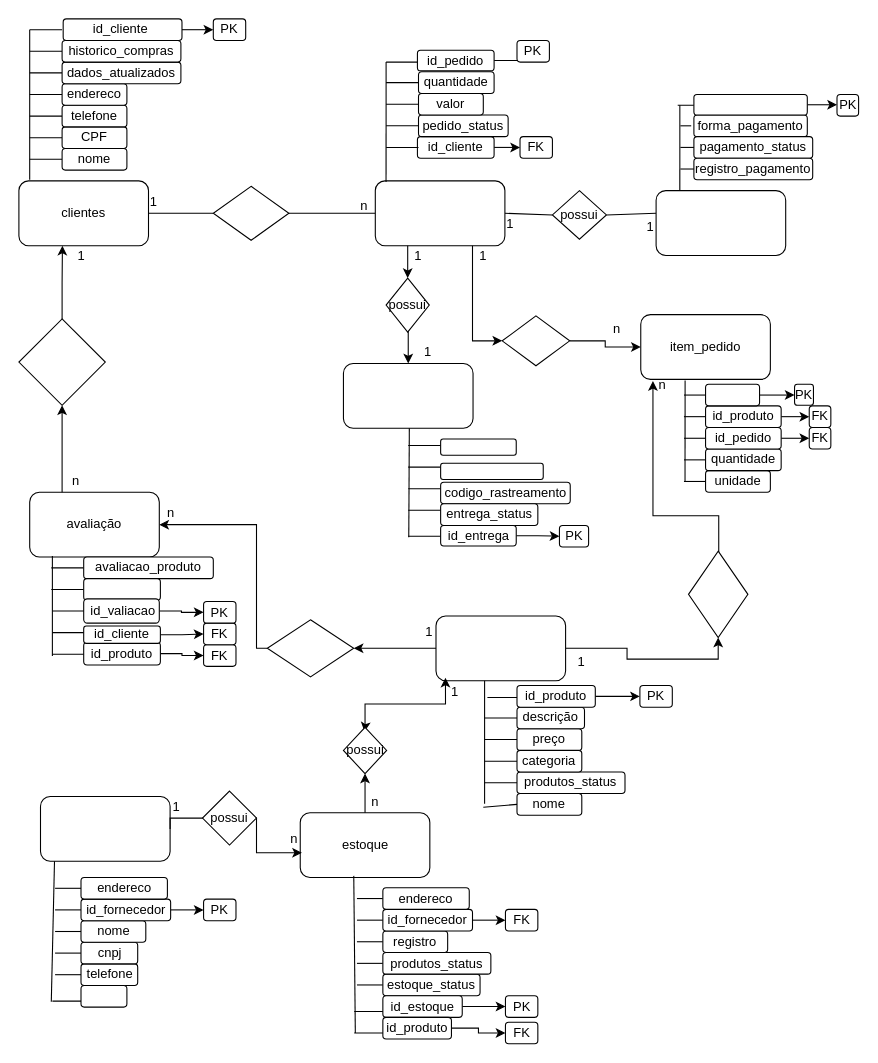
The diagram is 878 pixels wide and 1063 high, and some of its shapes have lost their labels. Each missing label, with the centre of its shape:
"comentario" goes at (x=121, y=589).
"compõe" goes at (x=717, y=594).
"contém" goes at (x=535, y=340).
"email" goes at (x=103, y=995).
"endereso" goes at (x=478, y=446).
"entrega" goes at (x=407, y=395).
"FAZ" goes at (x=250, y=212).
"fornecedor" goes at (x=104, y=828).
"id_item" goes at (x=732, y=394).
"id_pagamento" goes at (x=750, y=104).
"pagamento" goes at (x=720, y=222).
"pedido" goes at (x=439, y=213).
"produto" goes at (x=500, y=648).
"realiza" goes at (x=61, y=361).
"recebe" goes at (x=310, y=648).
"transportadora" goes at (x=491, y=471).
